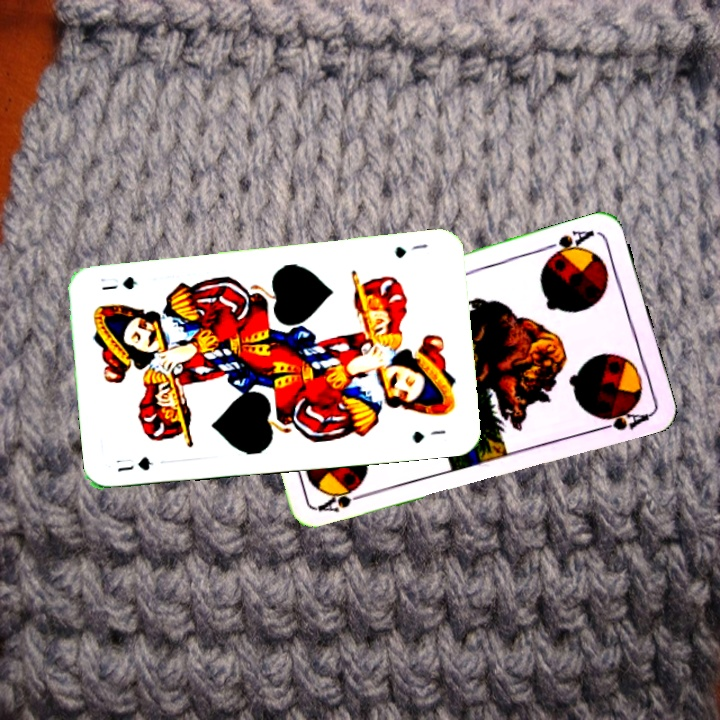GU: (112, 453, 154, 475), (391, 240, 430, 261)
SA: (541, 226, 597, 262), (314, 483, 373, 516)
